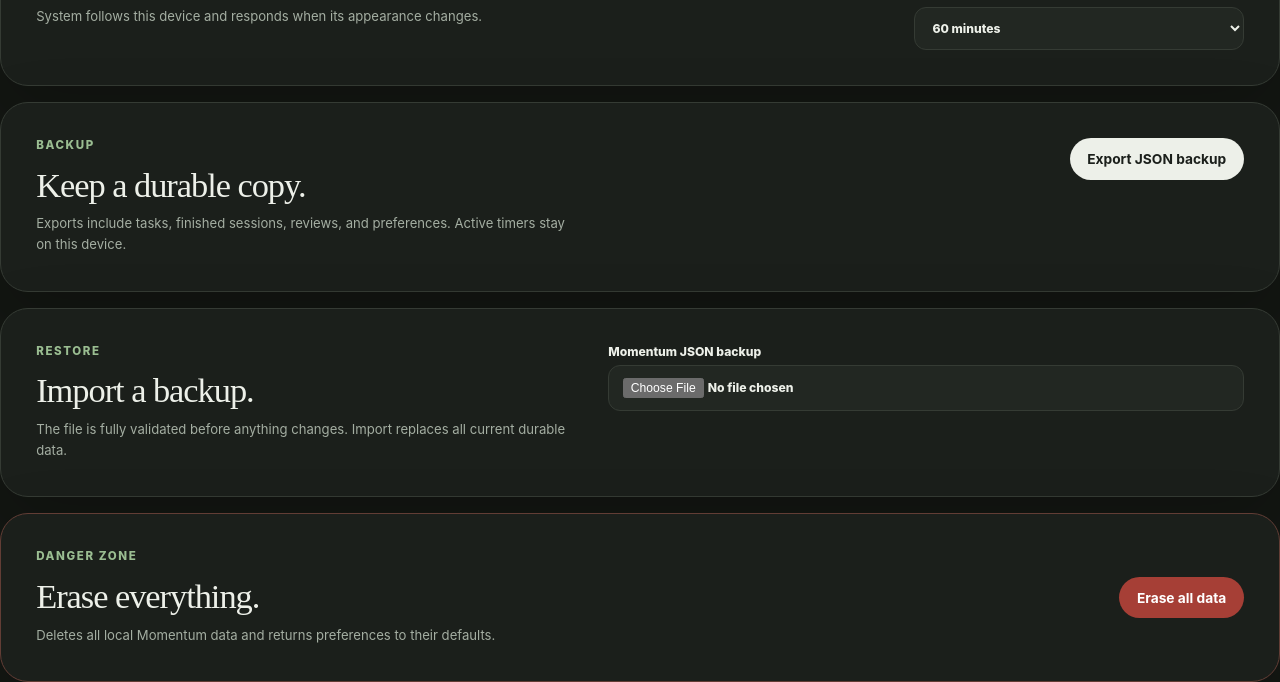
Test case: SettingsWorkspace › requires confirmation before erasing and restores first-run defaults
(page scrolled)
Click the button "Erase all data": [1182, 598] box [1119,577,1244,618]
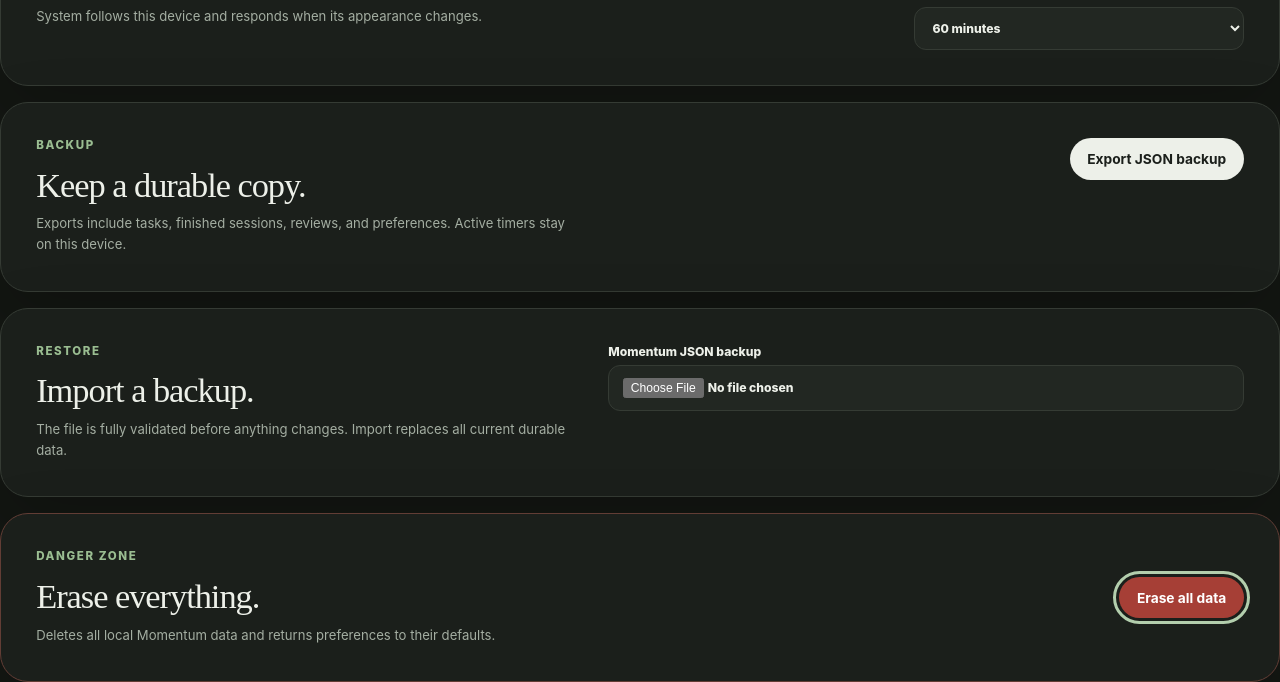
Click the button "Erase all data": [1182, 598] box [1119,577,1244,618]
(page scrolled)
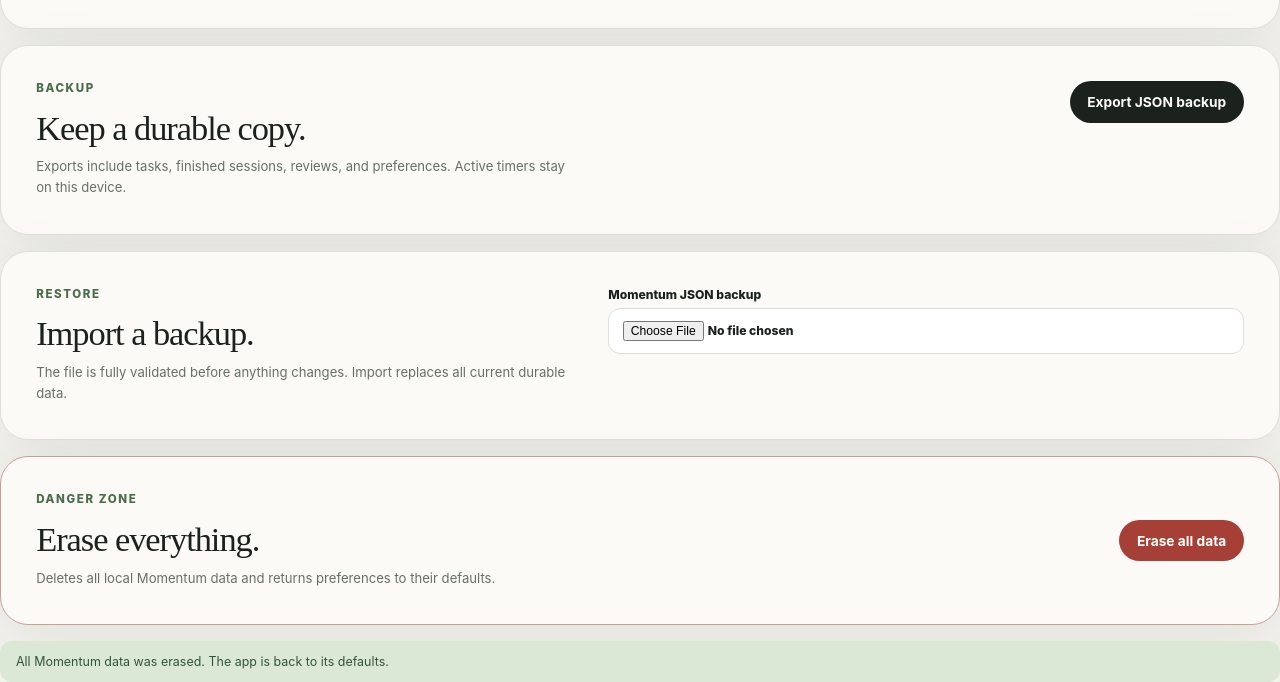
Expected: the text "All Momentum data was erased. The app is back to its defaults." is shown, [0,641,1279,681]
